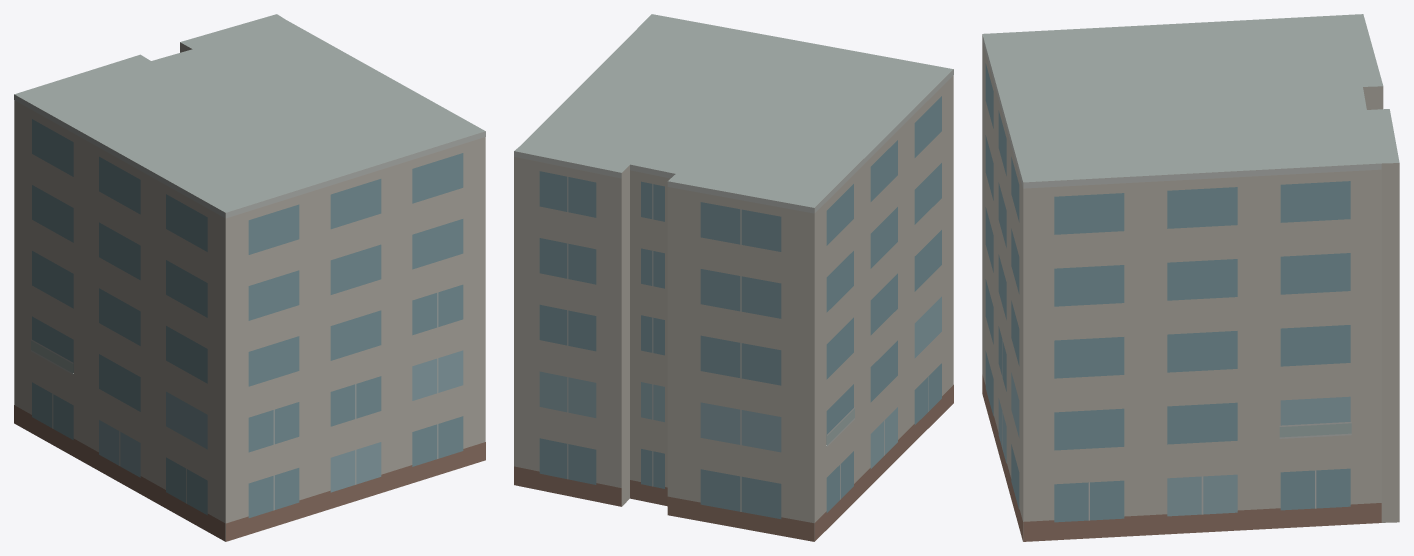
File: survey-upis-32870378.glb
3 renders of one model, left to right at view 1: azimuth 30°, elevation 25°; view 2: azimuth 150°, elevation 25°; view 3: azimuth 270°, elevation 25°, orthographic. The views are drawn at different scales.
Parts seen in each view (by area): view 1: survey-upis-32870378.tmp; view 2: survey-upis-32870378.tmp; view 3: survey-upis-32870378.tmp.
Boxes of the visible parts, x1,y1,x2,y2 form: survey-upis-32870378.tmp: [14, 14, 485, 541]; survey-upis-32870378.tmp: [514, 14, 953, 541]; survey-upis-32870378.tmp: [982, 14, 1399, 541].
Size of the model in its own units: 14.33 by 14.25 by 15.01.
